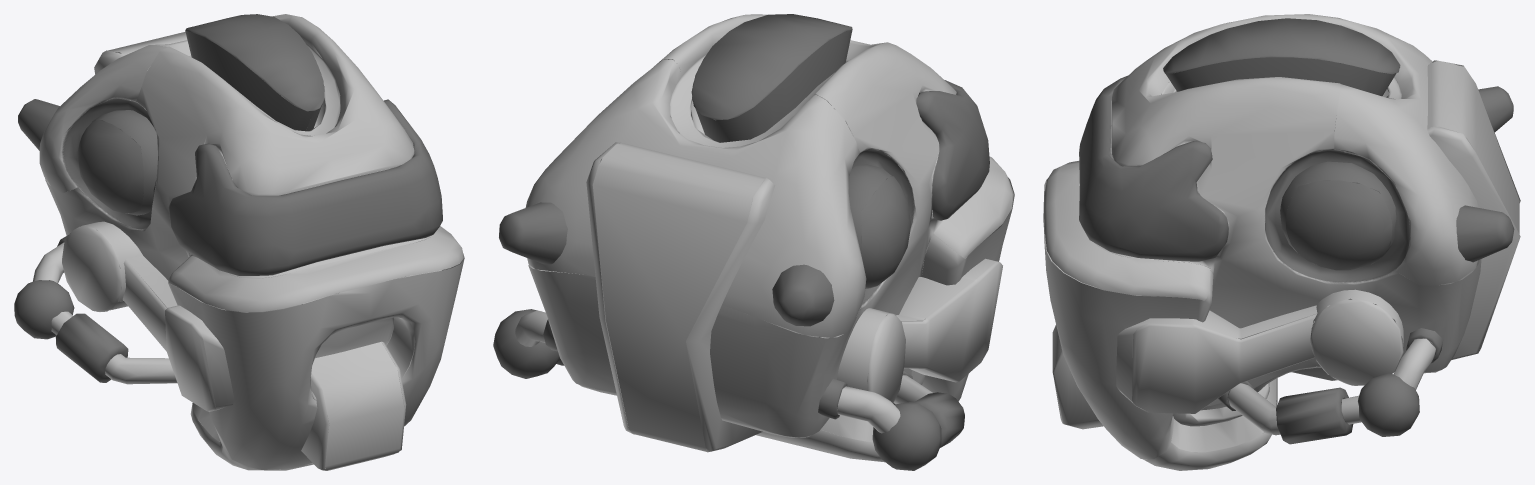
Rendered from rfs_aimcore_v1.dae.
The picture shows the model from 3 angles, left to right: view 1: azimuth 30°, elevation 25°; view 2: azimuth 150°, elevation 25°; view 3: azimuth 270°, elevation 25°; orthographic projection. The views are drawn at different scales.
Parts seen in each view (by area): view 1: rfs_aimcore_v1; view 2: rfs_aimcore_v1; view 3: rfs_aimcore_v1.
Boxes of the visible parts, x1=… form: rfs_aimcore_v1: x1=14, y1=14, x2=464, y2=470; rfs_aimcore_v1: x1=493, y1=14, x2=1014, y2=470; rfs_aimcore_v1: x1=1043, y1=14, x2=1520, y2=470.
Bounding box in the file's own units: 1.94 × 2 × 1.89.
2 materials, 2 textured.
